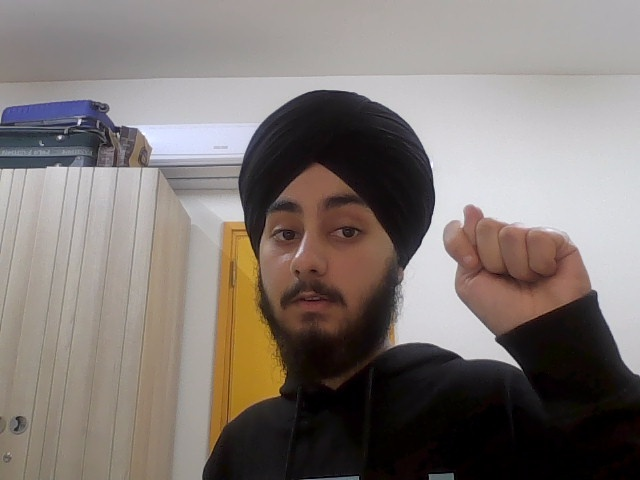Bathroom: (442, 202, 591, 324)
